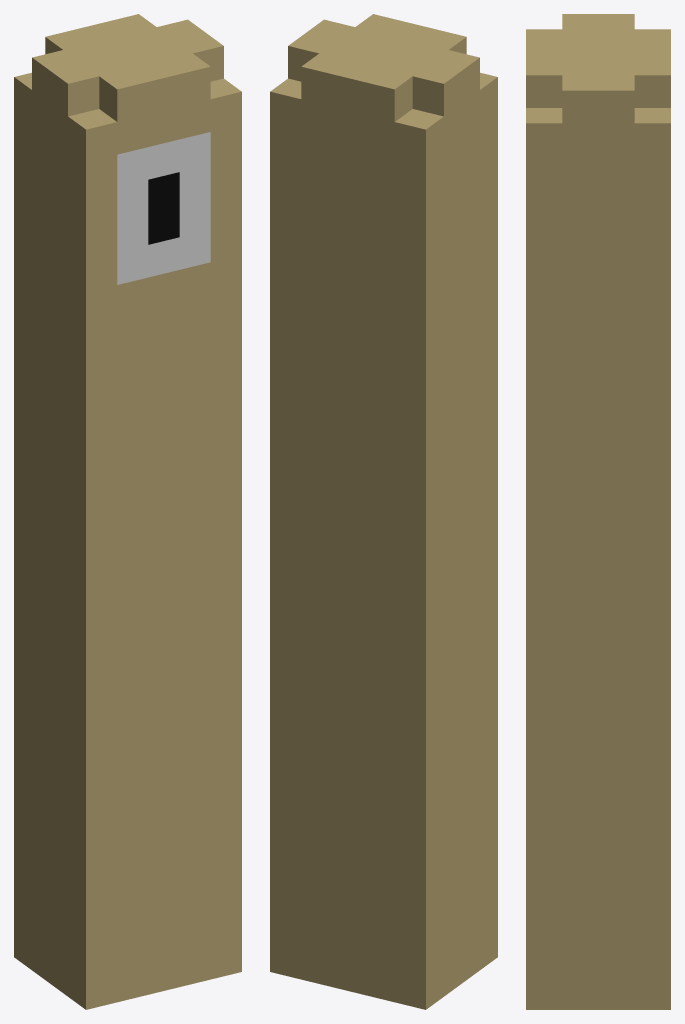
Rendered from worm.fbx.
3 renders of one model, left to right at view 1: azimuth 30°, elevation 25°; view 2: azimuth 150°, elevation 25°; view 3: azimuth 270°, elevation 25°, orthographic.
Parts seen in each view (by area): view 1: Matrix_11; view 2: Matrix_11; view 3: Matrix_11.
Part boxes in pixels (<box>): Matrix_11: <box>14,14,241,1009</box>; Matrix_11: <box>270,14,497,1009</box>; Matrix_11: <box>526,14,670,1009</box>.
Size of the model in its own units: 5 by 28 by 4.
